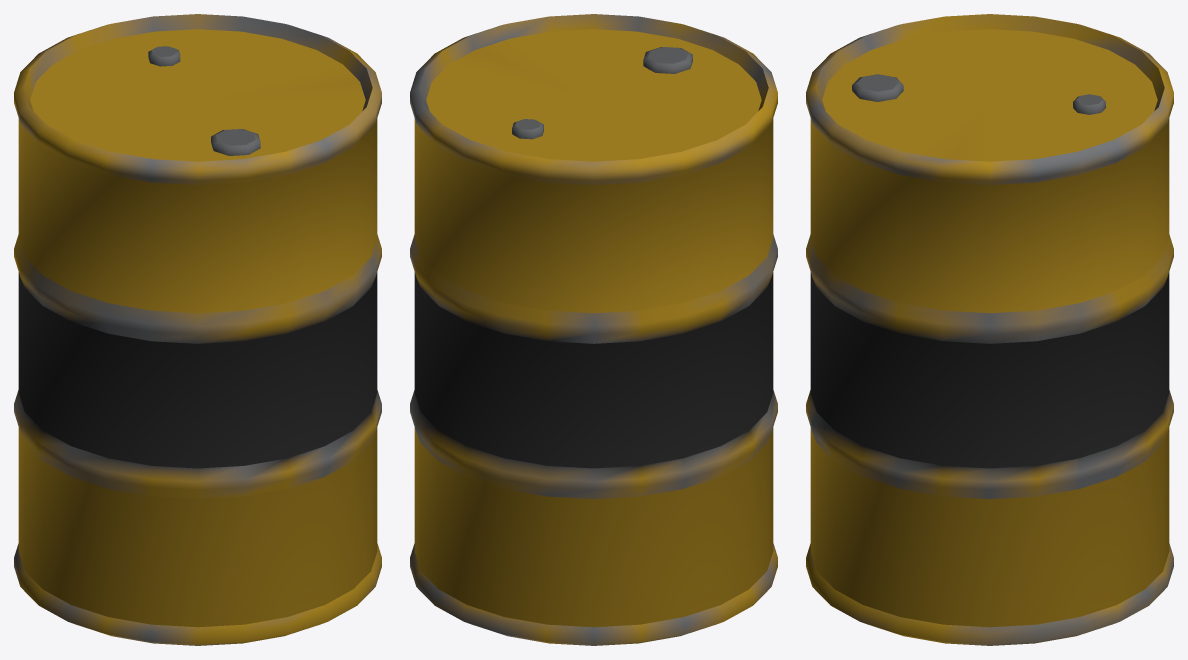
The model's file is drum.steel.yellow.glb.
3 renders of one model, left to right at view 1: azimuth 30°, elevation 25°; view 2: azimuth 150°, elevation 25°; view 3: azimuth 270°, elevation 25°, orthographic.
Visible parts, largest first — view 1: drum_steel_yellow; view 2: drum_steel_yellow; view 3: drum_steel_yellow.
Boxes of the visible parts, x1,y1,x2,y2 form: drum_steel_yellow: [14, 14, 381, 645]; drum_steel_yellow: [410, 14, 777, 645]; drum_steel_yellow: [806, 14, 1173, 645].
Size of what is drawn, in the model's own units: 0.653 by 0.95 by 0.653.
